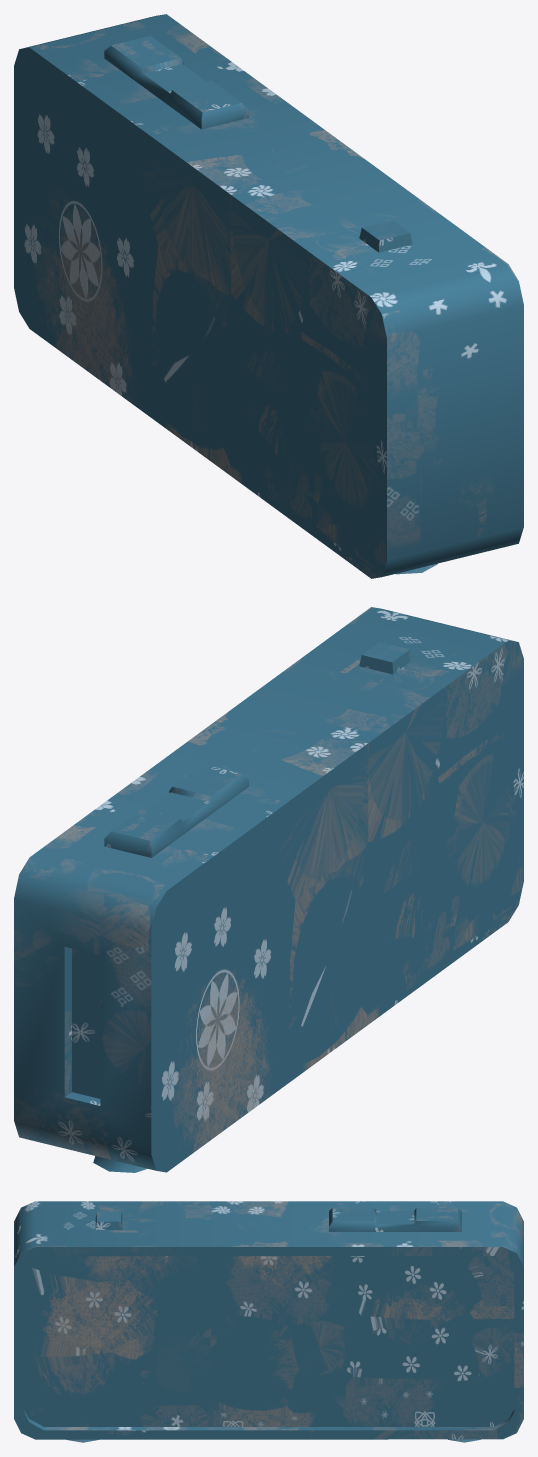
Rendered from ElectronikClock.fbx.
The picture shows the model from 3 angles, top to bottom: view 1: azimuth 30°, elevation 25°; view 2: azimuth 150°, elevation 25°; view 3: azimuth 270°, elevation 25°; orthographic projection. The views are drawn at different scales.
Visible parts, largest first — view 1: Окружность; view 2: Окружность; view 3: Окружность.
Part boxes in pixels (left/top/right/bottom): Окружность: left=14, top=14, right=523, bottom=578; Окружность: left=14, top=607, right=523, bottom=1172; Окружность: left=14, top=1201, right=523, bottom=1442.
Size of the model in its own units: 102 by 227 by 480.
